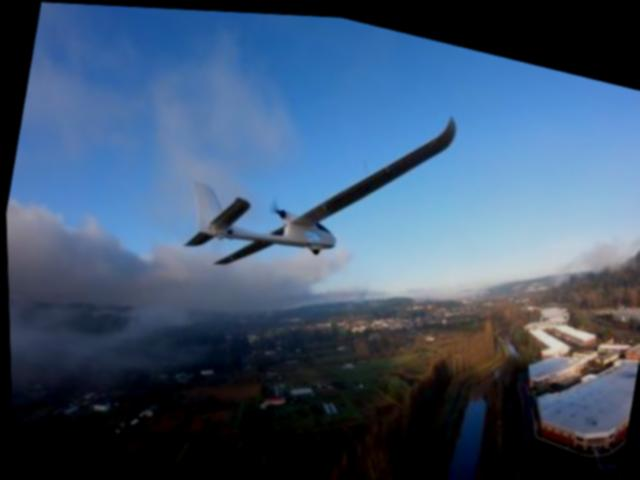uav: (170, 46, 474, 326)
